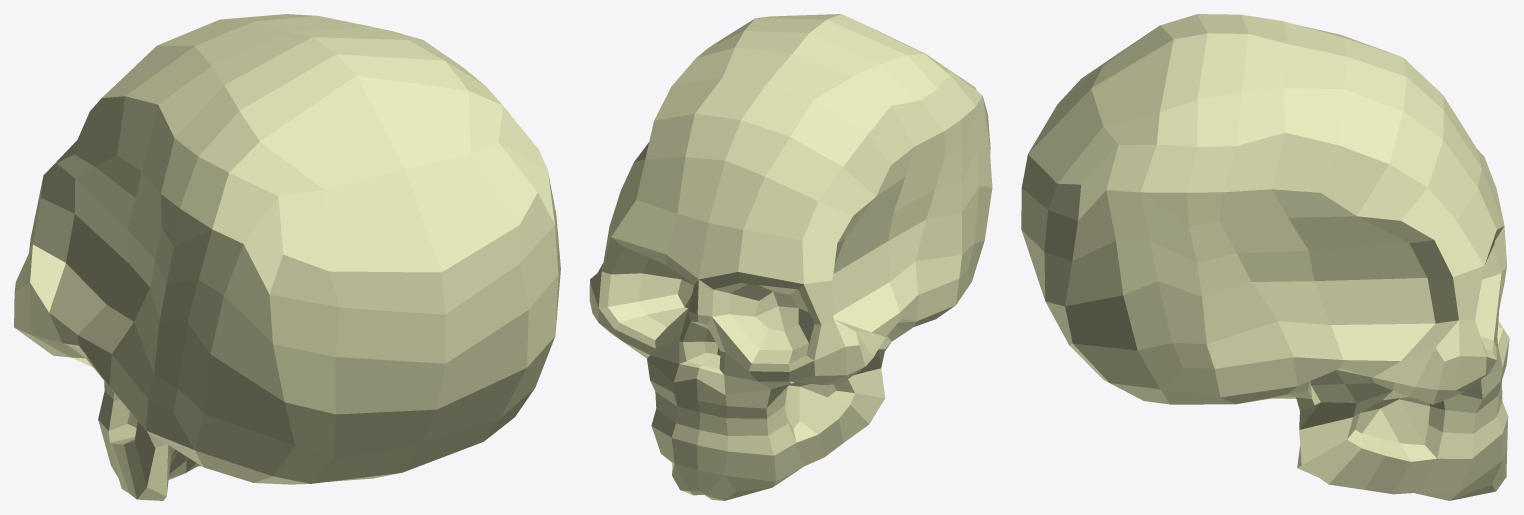
File: skull.glb
3 views of the same model, side by side, from view 1: azimuth 30°, elevation 25°; view 2: azimuth 150°, elevation 25°; view 3: azimuth 270°, elevation 25° (orthographic). The views are drawn at different scales.
Visible parts, largest first — view 1: Plane_2; view 2: Plane_2; view 3: Plane_2.
Boxes of the visible parts, x1=… form: Plane_2: x1=14, y1=14, x2=560, y2=500; Plane_2: x1=589, y1=14, x2=992, y2=500; Plane_2: x1=1021, y1=14, x2=1509, y2=500.
Size of the model in its own units: 1.42 by 1.9 by 1.87.
